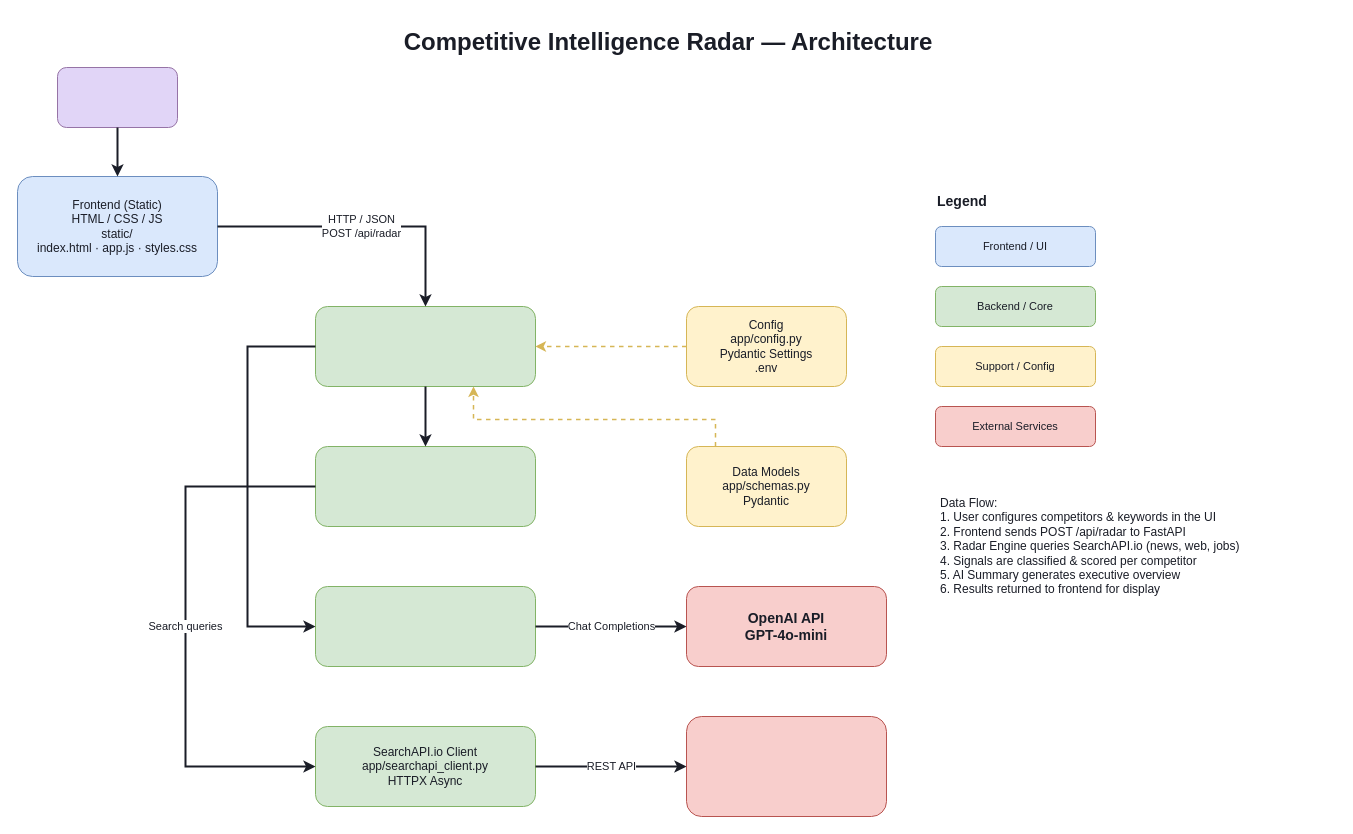
The diagram is 1353 pixels wide and 834 high, and some of its shapes have lost their labels. Each missing label, with the box of its shape:
AI Executive Summary app/ai_summary.py OpenAI / Rule-based: (314, 586, 536, 666)
FastAPI Application app/main.py REST API: (314, 306, 536, 386)
Radar Engine app/radar.py Signal Detection & Scoring: (314, 446, 536, 526)
SearchAPI.io Google News Google Search Google Jobs: (686, 716, 886, 816)
User: (56, 66, 178, 128)
